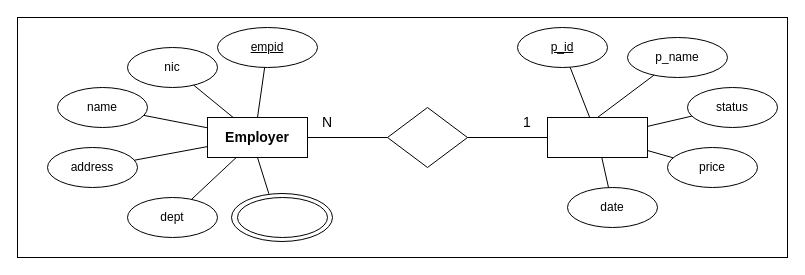
Image size: 805x275. Some labels were removed from this diagram. Each missing label, with the centre of its shape:
"contact" goes at (282,217).
"have" goes at (427,137).
"project" goes at (597,137).
